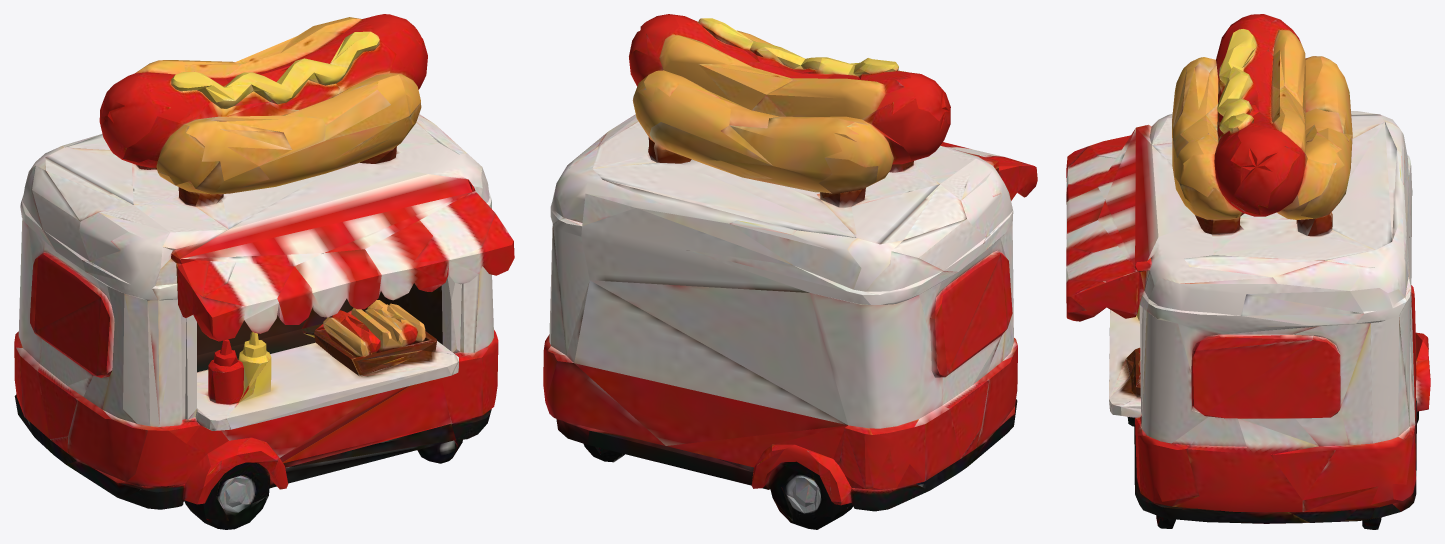
File: by-poelsevogn.glb
3 views of the same model, side by side, from view 1: azimuth 30°, elevation 25°; view 2: azimuth 150°, elevation 25°; view 3: azimuth 270°, elevation 25° (orthographic). The views are drawn at different scales.
Size of the model in its own units: 1.89 by 1.9 by 1.59.
Materials: 1 (1 with a texture image).
